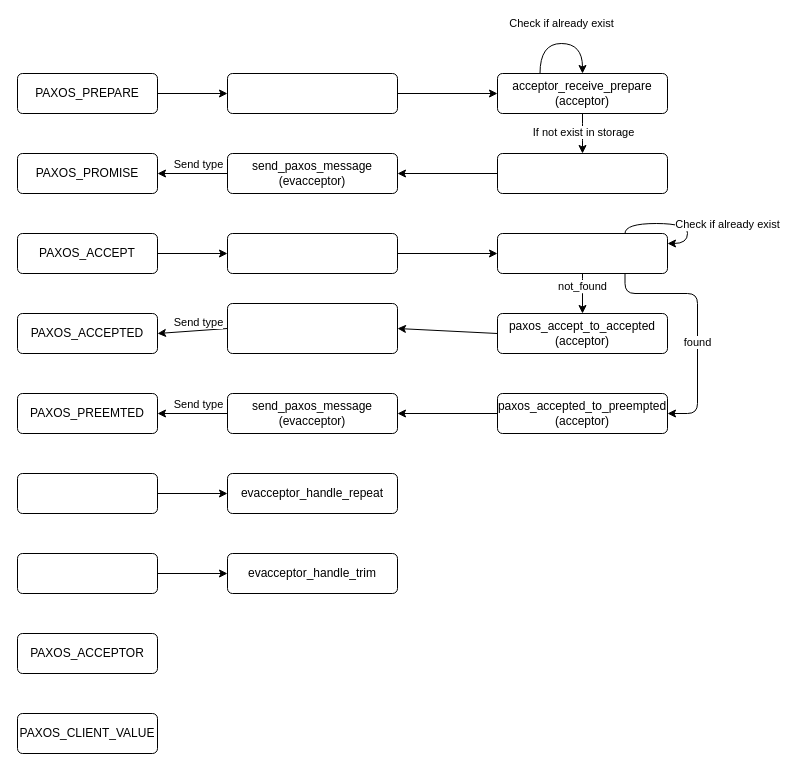
This 797x771 diagram has some shape labels left out. The box of each missing label's shape, as (x1, y1, x2, y2) in pixels:
acceptor_receive_accept (acceptor): (496, 232, 668, 274)
evacceptor_handle_accept: (226, 232, 398, 274)
evacceptor_handle_prepare (evacceptor): (226, 72, 398, 114)
paxos_accepted_to_promise (acceptor): (496, 152, 668, 194)
PAXOS_REPEAT: (16, 472, 158, 514)
PAXOS_TRIM: (16, 552, 158, 594)
peers_foreach_client (peers_send_paxos_message) (evacceptor): (226, 302, 398, 354)
